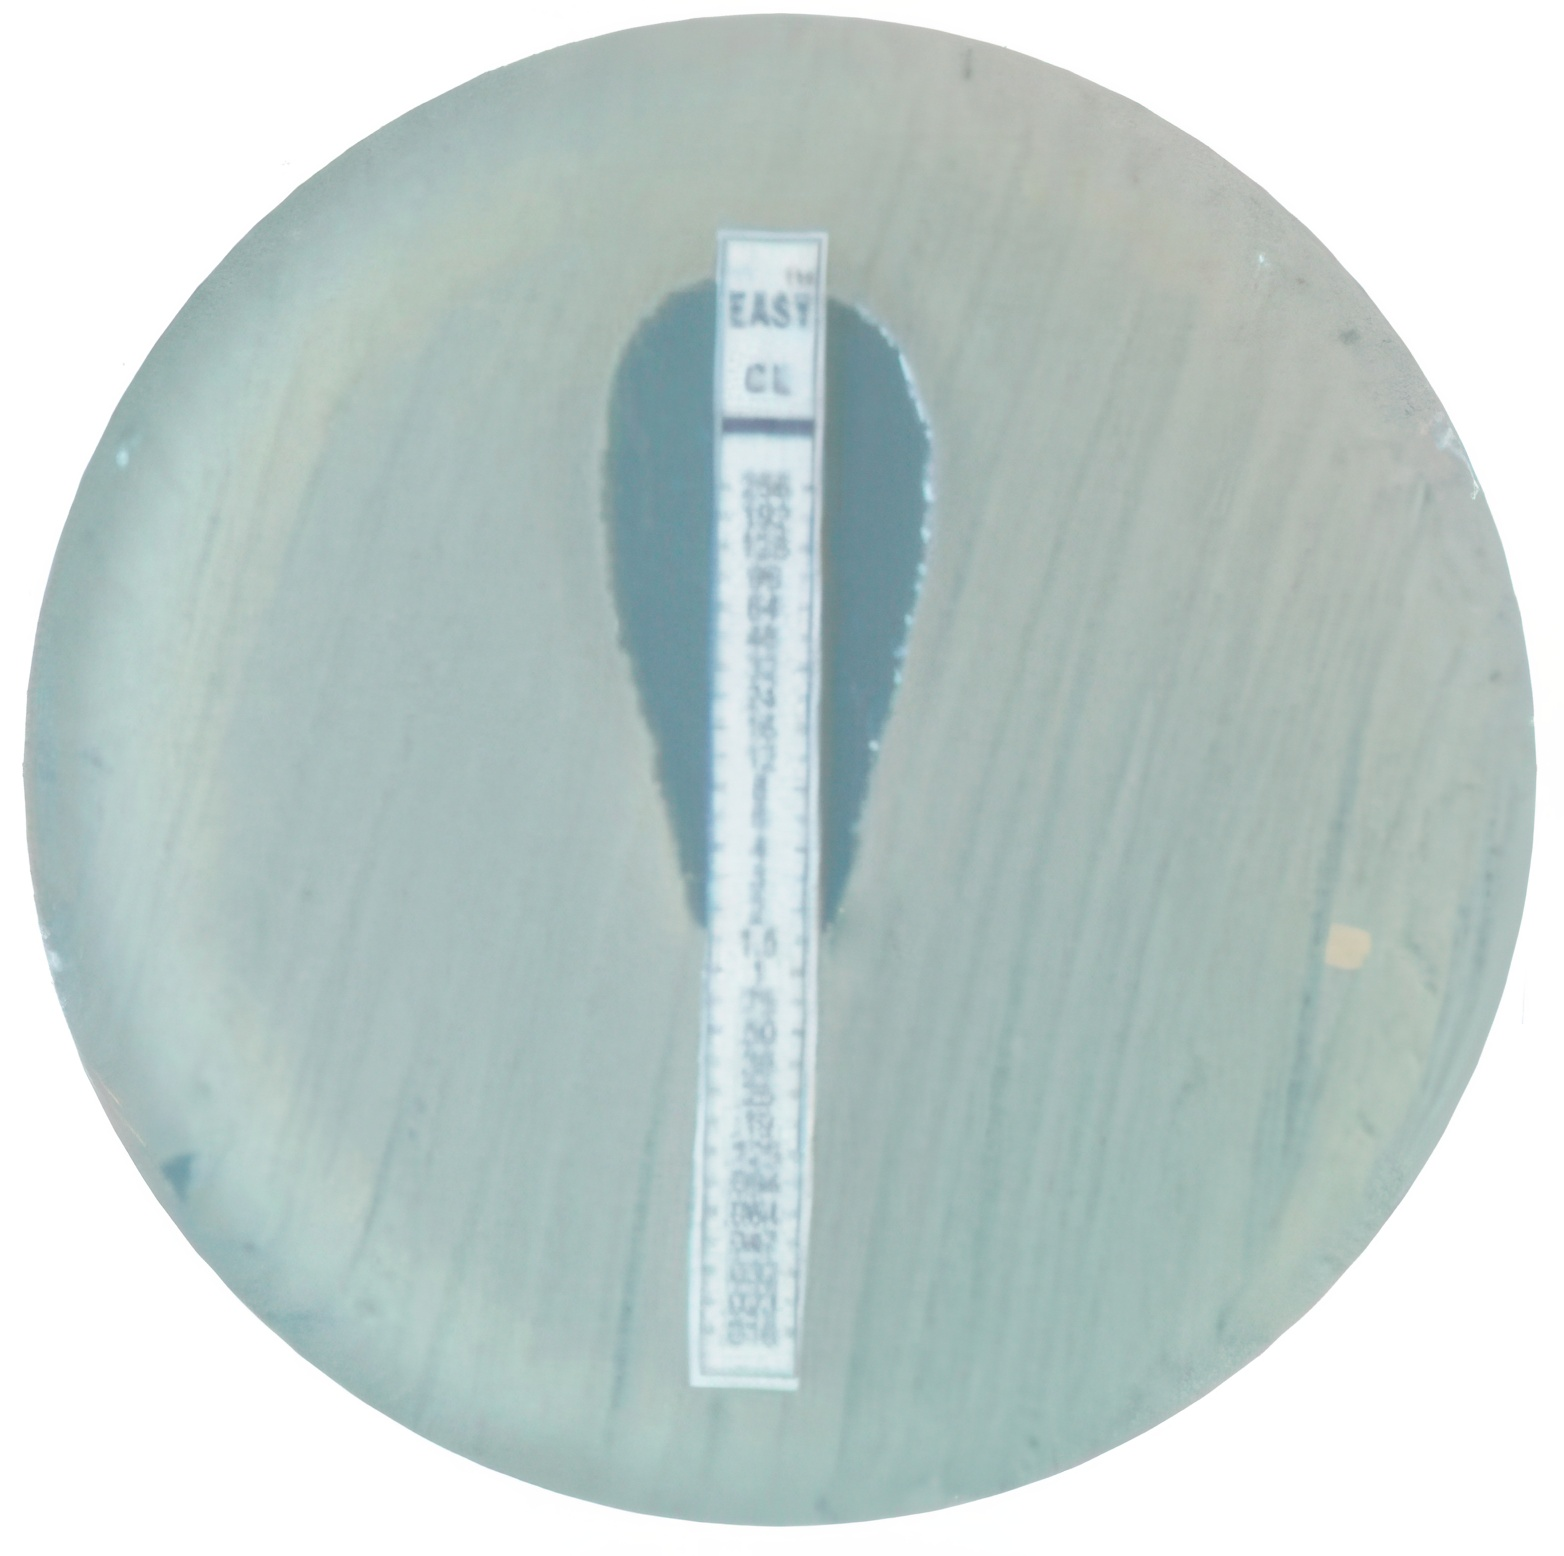line: (687, 227, 843, 1391)
zone: (593, 285, 933, 928)
